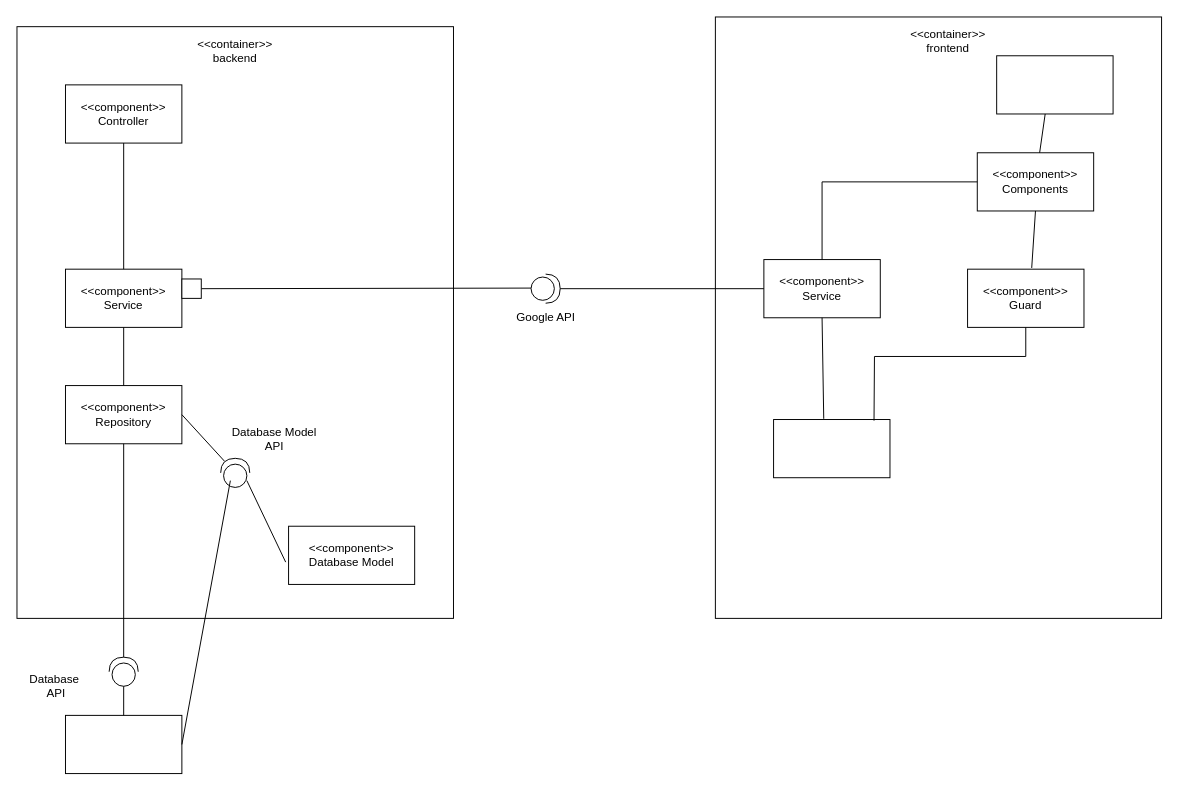
This 1179x791 diagram has some shape labels left out. The shapes that lost their labels are listed below. From the top down, each one's centre as x and y in pixels, then its label:
the point at 1054,84: <<interface>> Interface
the point at 831,448: <<compoent>> Routes
the point at 123,744: <<container>> Database
